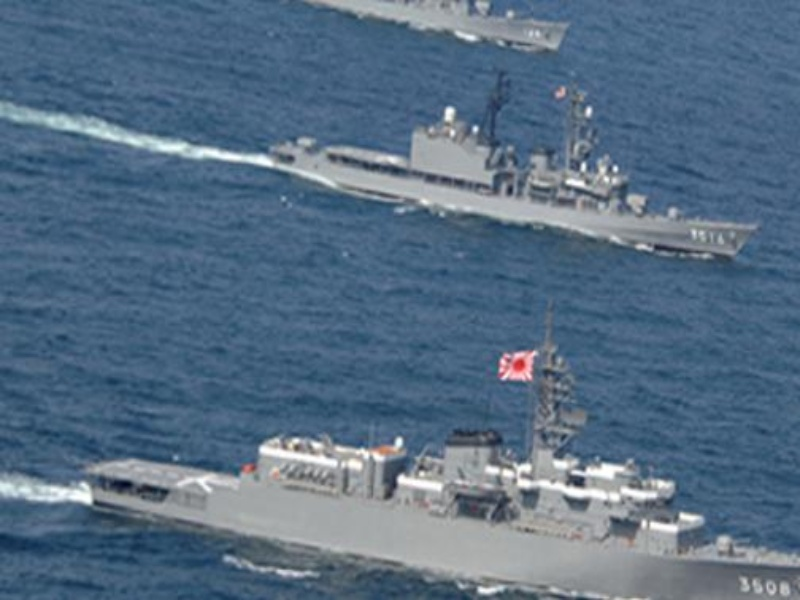cruise: (124, 400, 788, 600), (280, 109, 762, 260), (340, 4, 574, 55)
